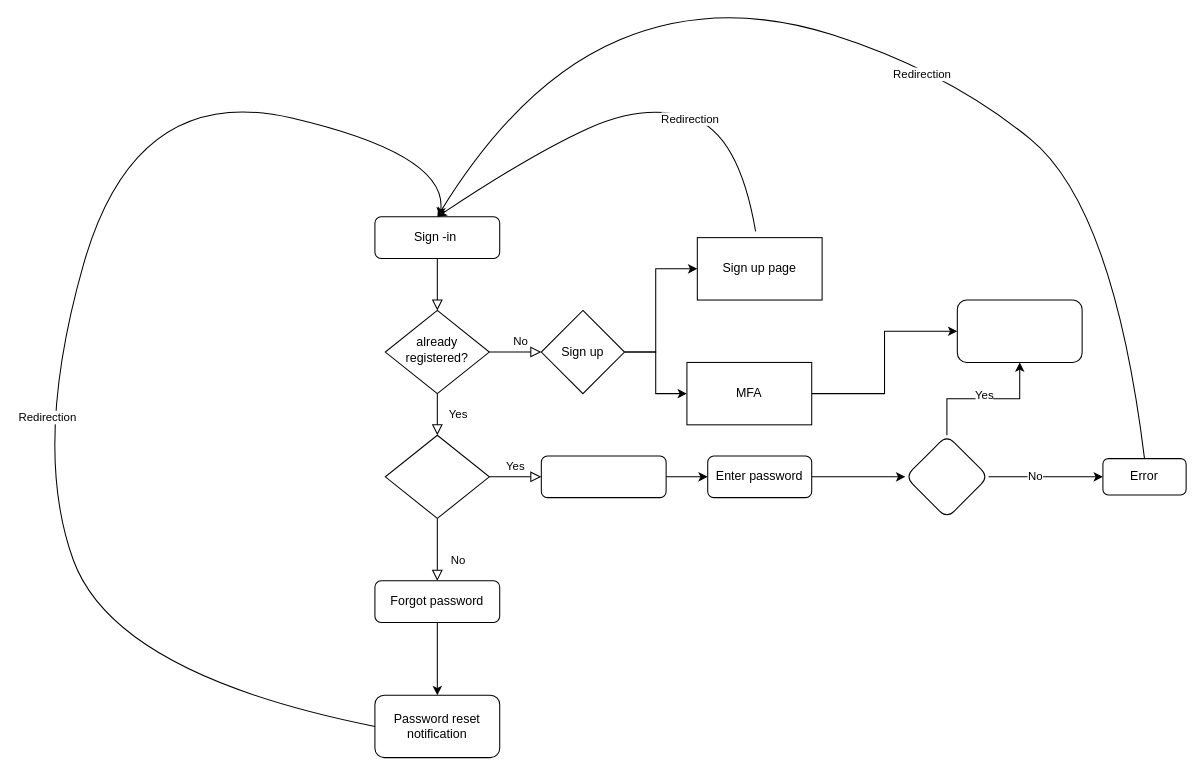
The diagram is 1204 pixels wide and 777 high, and some of its shapes have lost their labels. Each missing label, with the centre of its shape:
"Continue" belongs at pixel 603 476.
"Enter email" belongs at pixel 436 476.
"is true" belongs at pixel 946 476.
"Success" belongs at pixel 1019 330.
